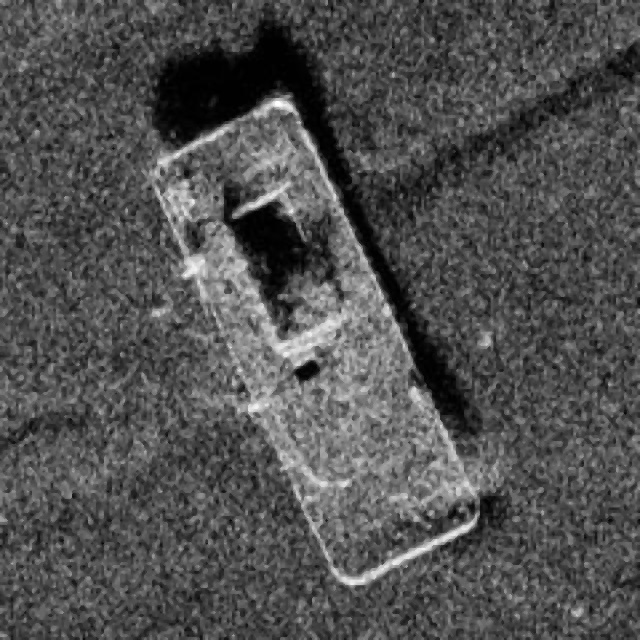Ship: (143, 81, 495, 592)
